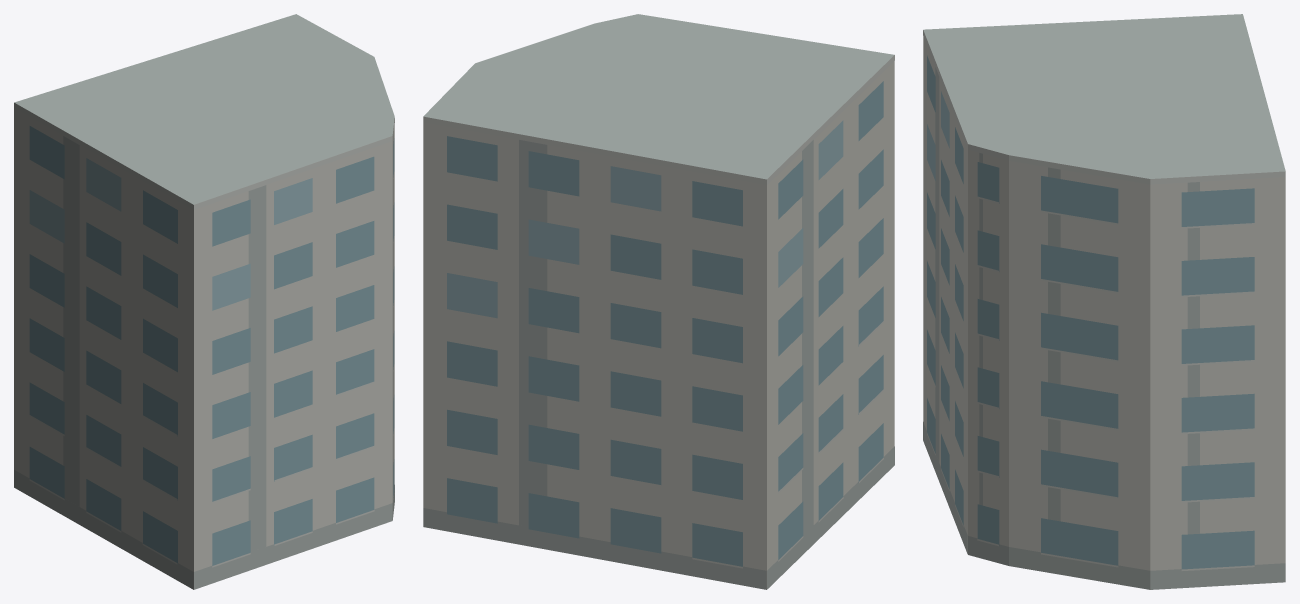
Rendered from survey-upis-32809158.glb.
The picture shows the model from 3 angles, left to right: view 1: azimuth 30°, elevation 25°; view 2: azimuth 150°, elevation 25°; view 3: azimuth 270°, elevation 25°; orthographic projection. The views are drawn at different scales.
Parts seen in each view (by area): view 1: survey-upis-32809158.tmp; view 2: survey-upis-32809158.tmp; view 3: survey-upis-32809158.tmp.
Boxes of the visible parts, x1,y1,x2,y2 form: survey-upis-32809158.tmp: (14, 14, 394, 589); survey-upis-32809158.tmp: (423, 14, 894, 589); survey-upis-32809158.tmp: (923, 14, 1285, 589).
Size of the model in its own units: 15.22 by 17.65 by 14.13.
